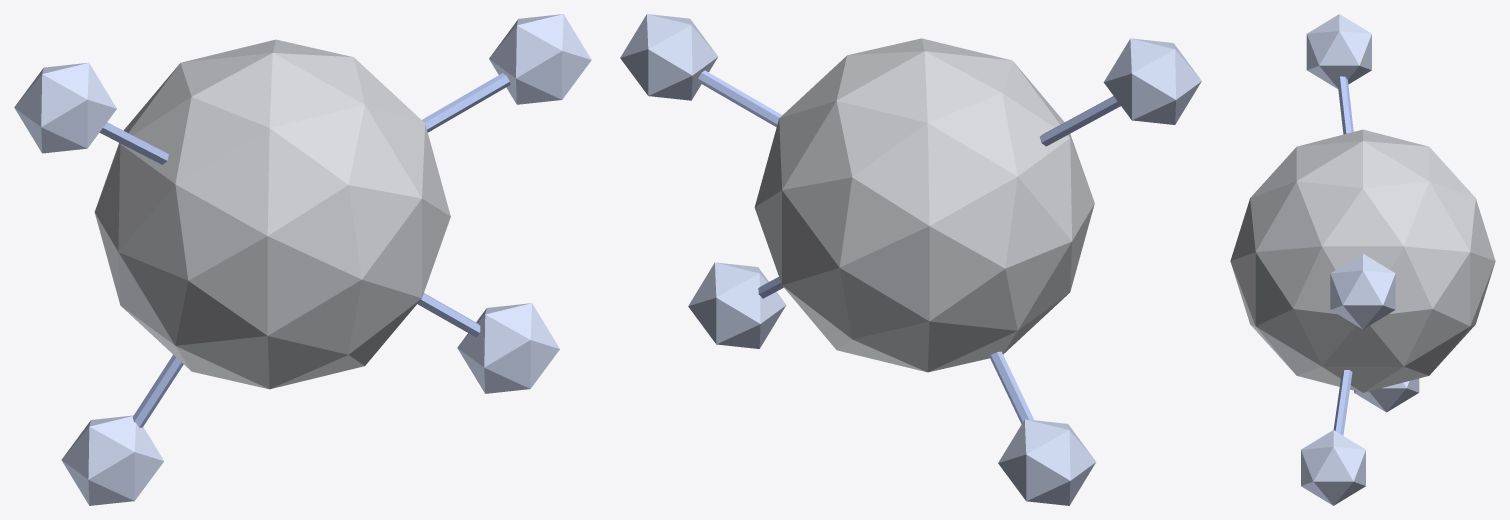
Rendered from portfolio-node.glb.
The picture shows the model from 3 angles, left to right: view 1: azimuth 30°, elevation 25°; view 2: azimuth 150°, elevation 25°; view 3: azimuth 270°, elevation 25°; orthographic projection. The views are drawn at different scales.
Parts seen in each view (by area): view 1: core, n1, n2, n0, n3, l0, l2, l1, l3; view 2: core, n1, n2, n0, n3, l0, l1, l2; view 3: core, n0, n3, n1, n2, l3, l1.
Boxes of the visible parts, bbox=[...] form: core: bbox=[94, 39, 450, 389]; n1: bbox=[14, 62, 116, 153]; n2: bbox=[61, 415, 163, 505]; n0: bbox=[489, 14, 591, 104]; n3: bbox=[457, 303, 559, 393]; l0: bbox=[422, 73, 510, 132]; l2: bbox=[132, 355, 183, 427]; l1: bbox=[99, 122, 168, 164]; l3: bbox=[417, 293, 480, 337]; core: bbox=[754, 38, 1094, 372]; n1: bbox=[1103, 38, 1201, 124]; n2: bbox=[998, 419, 1095, 505]; n0: bbox=[620, 14, 718, 100]; n3: bbox=[688, 262, 786, 348]; l0: bbox=[698, 70, 782, 127]; l1: bbox=[1040, 96, 1120, 146]; l2: bbox=[989, 351, 1034, 423]; core: bbox=[1230, 129, 1495, 392]; n0: bbox=[1330, 254, 1395, 329]; n3: bbox=[1301, 430, 1365, 505]; n1: bbox=[1306, 14, 1371, 88]; n2: bbox=[1354, 378, 1419, 412]; l3: bbox=[1333, 370, 1352, 435]; l1: bbox=[1337, 76, 1353, 134].
Bounding box in the file's own units: 1.65 × 1.32 × 0.9.
